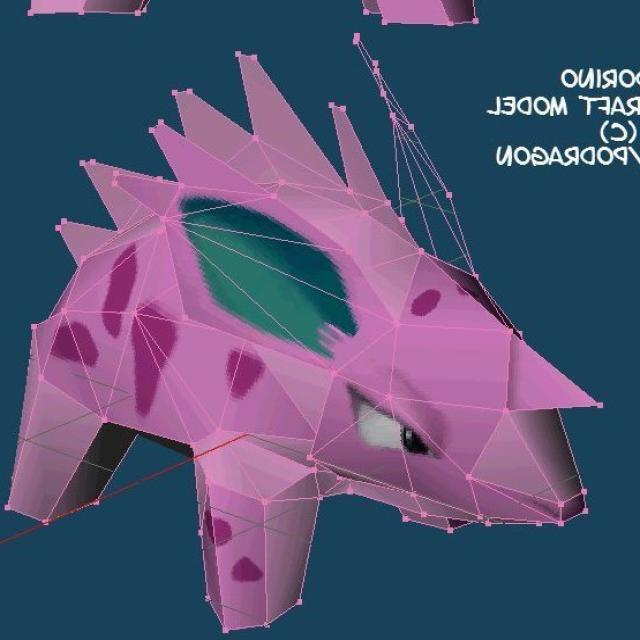Nidorino: (21, 101, 606, 638)
